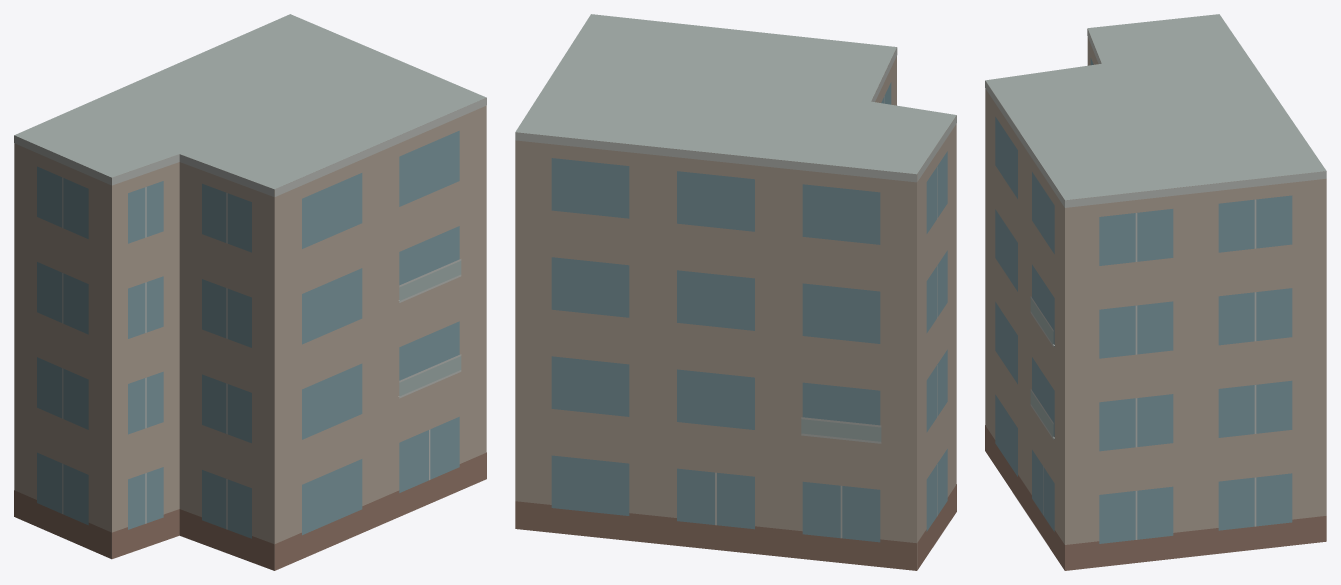
File: survey-upis-32647061.glb
The picture shows the model from 3 angles, left to right: view 1: azimuth 30°, elevation 25°; view 2: azimuth 150°, elevation 25°; view 3: azimuth 270°, elevation 25°; orthographic projection. The views are drawn at different scales.
Parts seen in each view (by area): view 1: survey-upis-32647061.tmp; view 2: survey-upis-32647061.tmp; view 3: survey-upis-32647061.tmp.
Boxes of the visible parts, x1,y1,x2,y2 form: survey-upis-32647061.tmp: (14,14,486,570); survey-upis-32647061.tmp: (515,14,956,570); survey-upis-32647061.tmp: (985,14,1326,570).
Bounding box in the file's own units: 12.73 × 11.8 × 9.87.
